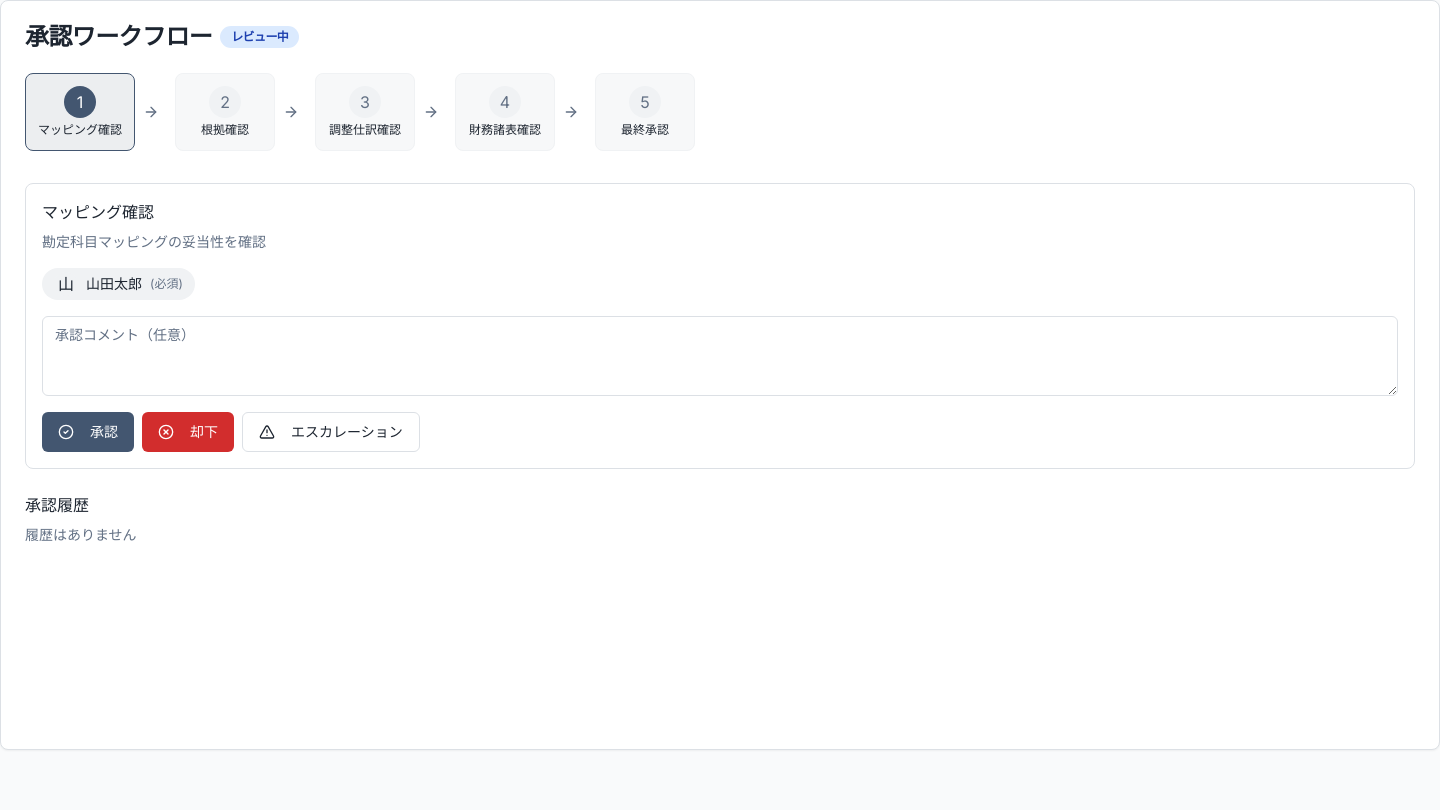
Test: conversion/approval-workflow — escalate flow › opens the escalate dialog when the escalate button is clicked
The image size is (1440, 810).
What coordinates should you click on to do the following:
click the button "エスカレーション"
I would click on:
 (331, 432)
Its box is x1=242 y1=412 x2=420 y2=452.
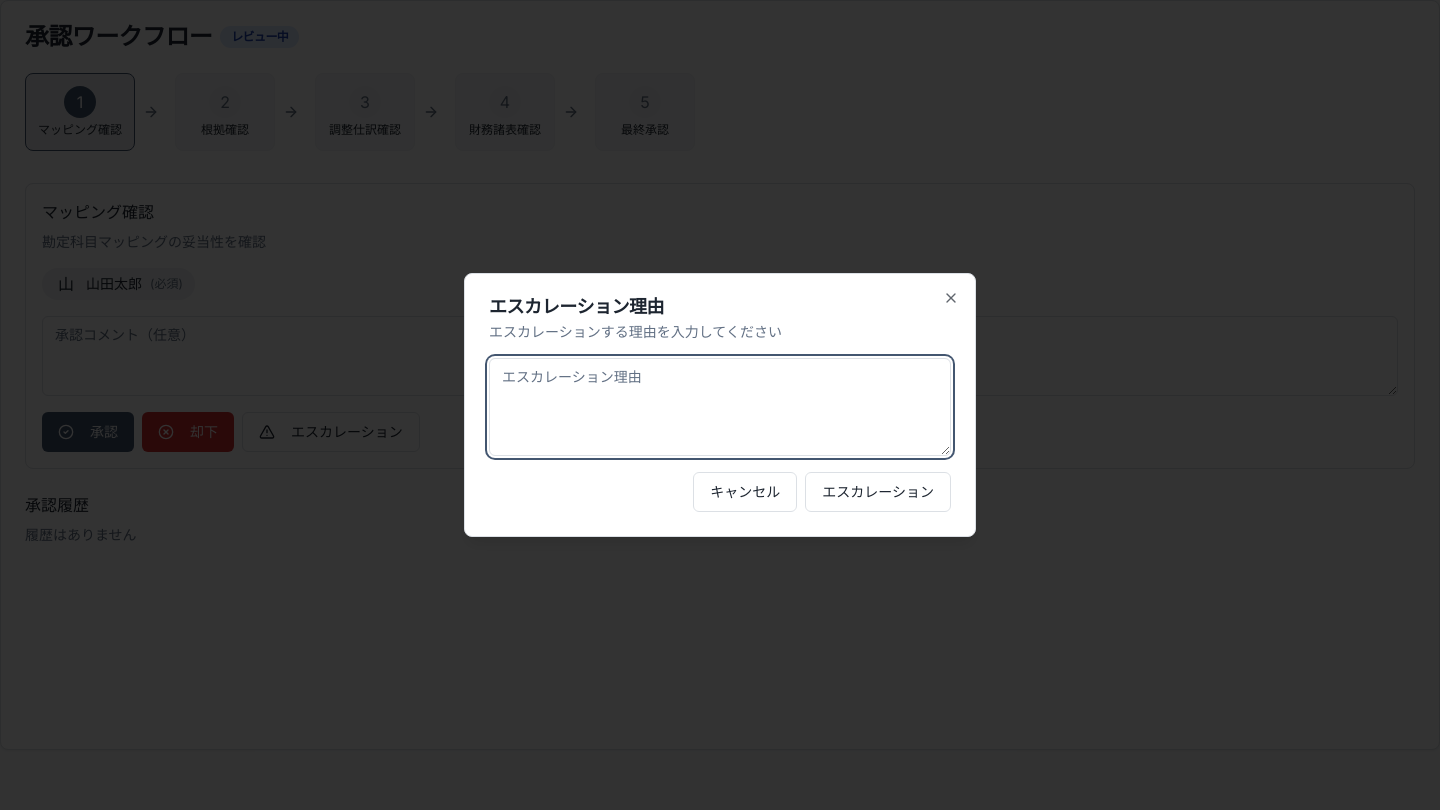
Now the heading "エスカレーション理由" is shown, box x1=489 y1=296 x2=664 y2=317
